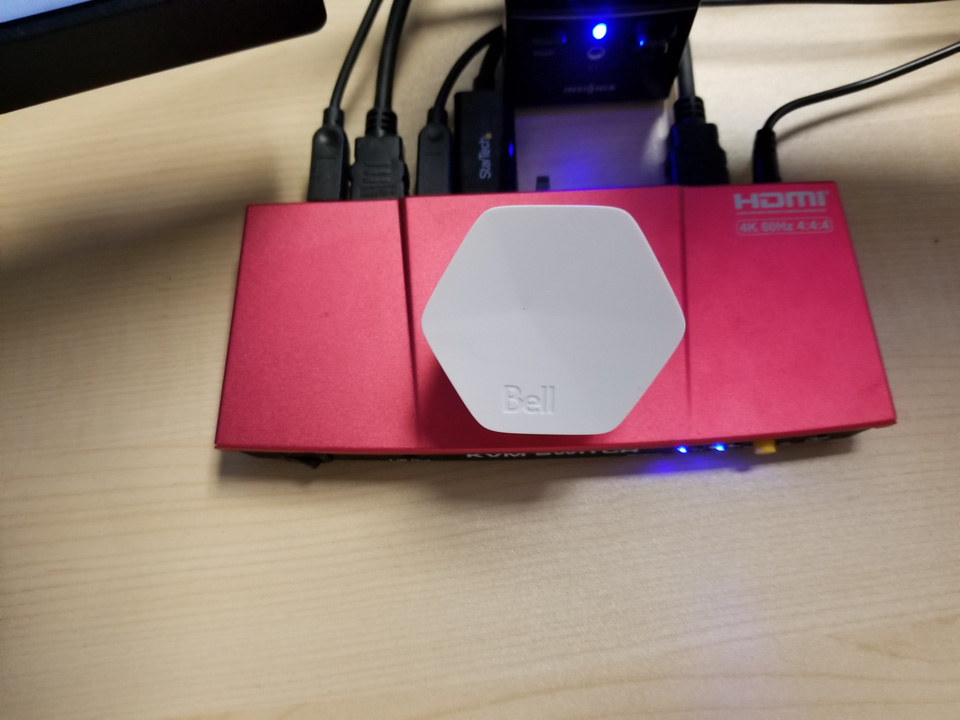pod: (417, 201, 697, 440)
